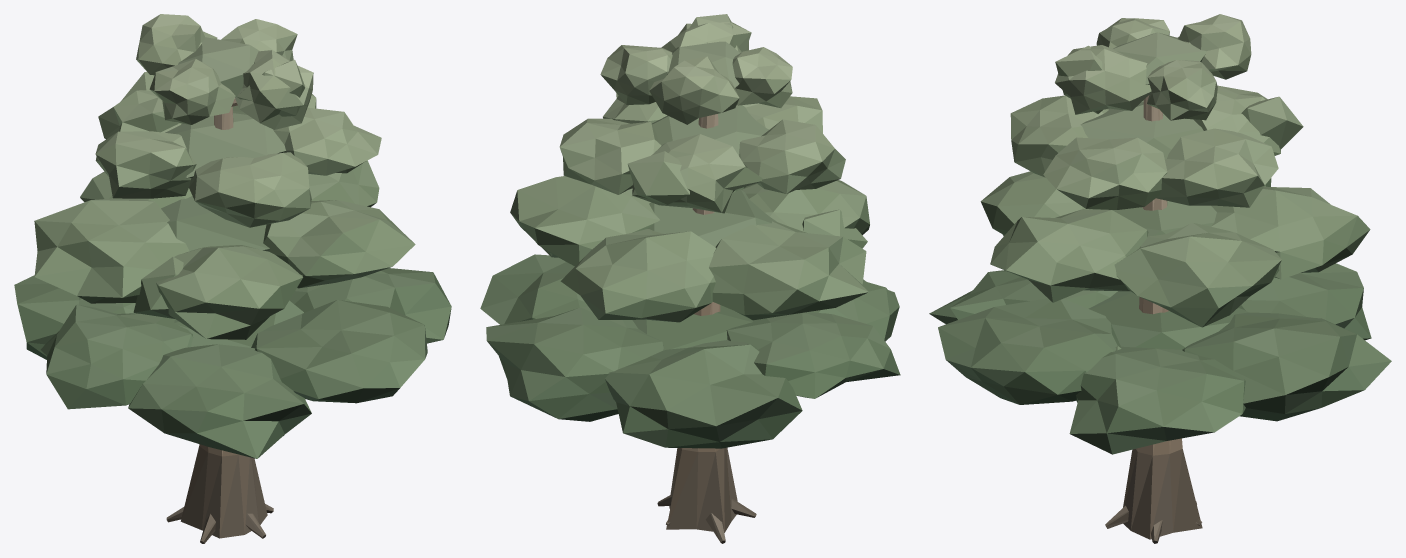
The model's file is broadleaf-column-tiered.glb.
3 renders of one model, left to right at view 1: azimuth 30°, elevation 25°; view 2: azimuth 150°, elevation 25°; view 3: azimuth 270°, elevation 25°, orthographic. The views are drawn at different scales.
Parts seen in each view (by area): view 1: canopy, trunk; view 2: canopy, trunk; view 3: canopy, trunk.
Part boxes in pixels (x1=…): canopy: x1=14, y1=14, x2=451, y2=458; trunk: x1=166, y1=98, x2=273, y2=543; canopy: x1=480, y1=14, x2=900, y2=448; trunk: x1=657, y1=114, x2=756, y2=543; canopy: x1=929, y1=14, x2=1391, y2=454; trunk: x1=1105, y1=95, x2=1202, y2=543.
Bounding box in the file's own units: 5.47 × 6.5 × 5.54.
